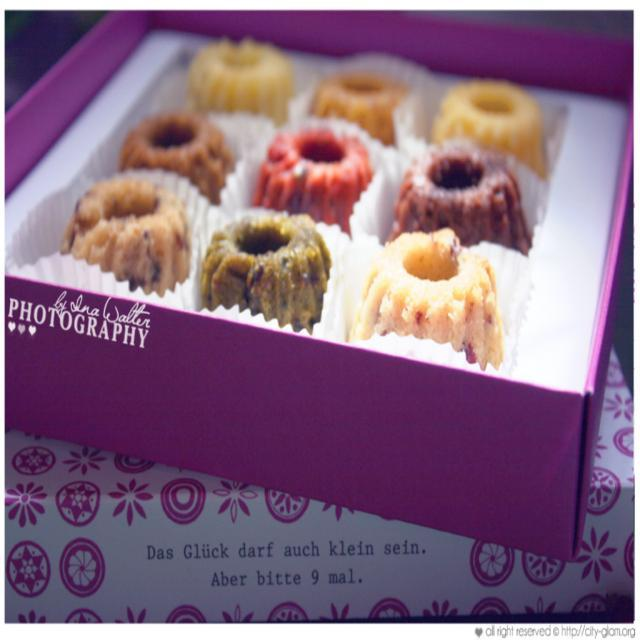Cookie: (348, 224, 504, 370), (63, 152, 193, 292), (198, 203, 331, 331), (388, 139, 531, 241), (251, 120, 376, 232), (432, 78, 546, 179), (118, 108, 237, 204), (186, 37, 294, 123), (310, 67, 408, 144)
